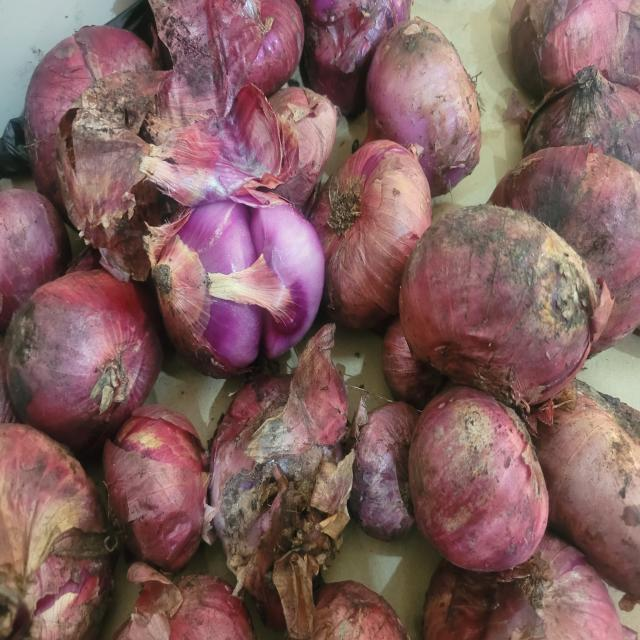mechanical_damage: (144, 175, 345, 368)
rotten: (2, 308, 34, 416), (0, 117, 33, 185)
